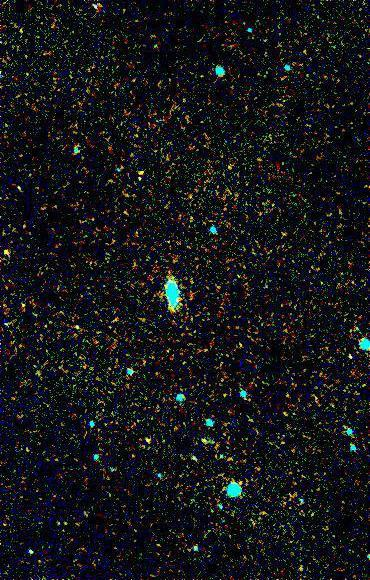star: (0, 236, 19, 266)
